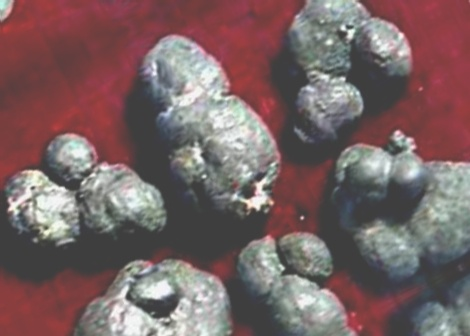halobolite: (106, 7, 302, 245), (280, 1, 416, 142), (8, 123, 145, 262), (333, 141, 470, 271), (61, 253, 240, 336), (232, 222, 350, 336)
